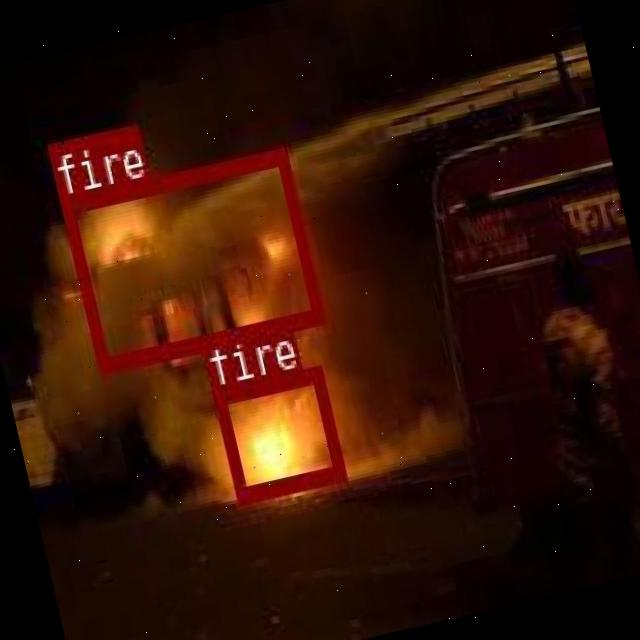fire: (59, 146, 323, 371), (210, 362, 344, 500)
